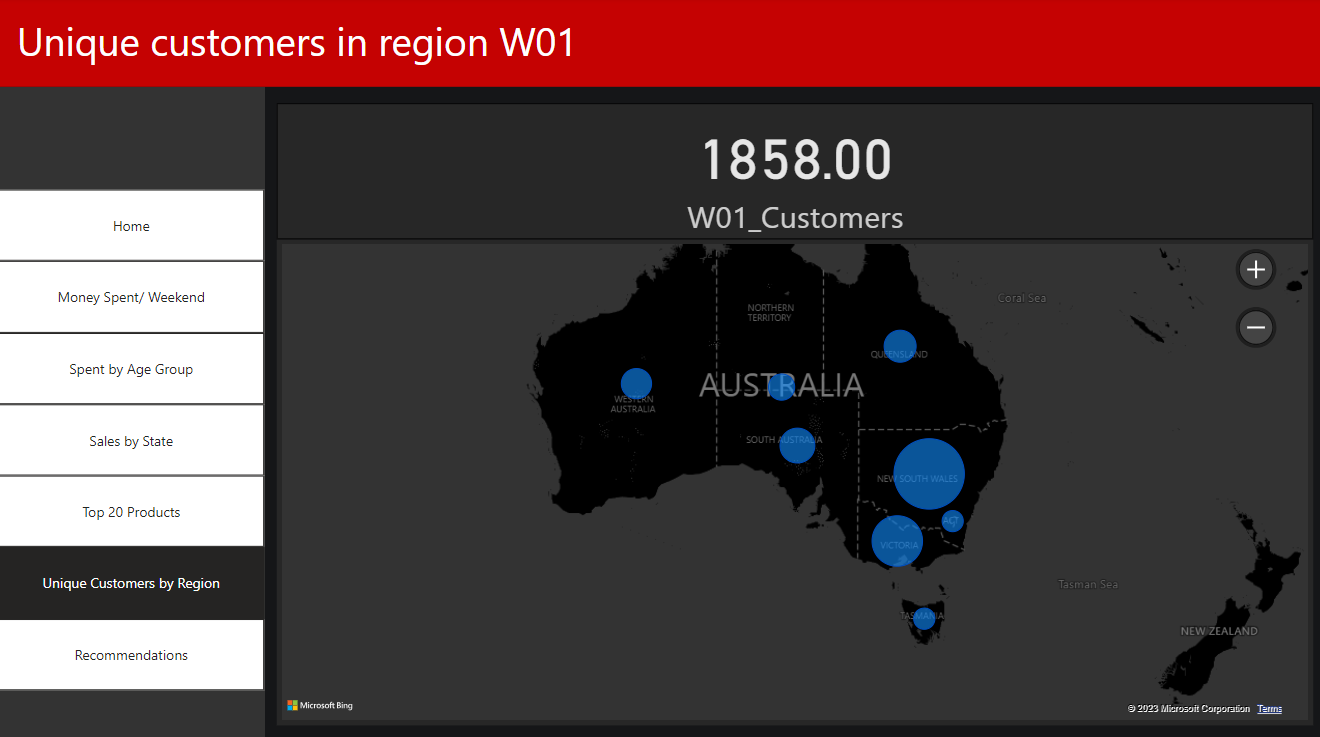

What the dashboard file says about the page in this screenshot:
{"tool":"powerbi","page":{"name":"Unique Customers by State","canvas":[1280,720],"ordinal":5},"visuals":[{"type":"shape","box":[0,0,1279.9,86.8],"z":0},{"type":"shape","box":[0,86.8,257.9,633.2],"z":1000},{"type":"map","fields":{"Size":["QUESTION_2.Unique_Customers"],"Category":["State_Lookup.Location"]},"box":[268.9,234,999.8,469.1],"z":2000},{"type":"card","fields":{"Values":["QUESTION_2.W01_Customers"]},"box":[268.9,102.5,999.8,131.5],"z":3000},{"type":"pageNavigator","box":[0,185.8,257.9,485.3],"z":4000},{"type":"textbox","box":[13.3,12.1,1245.8,74.8],"z":5000}]}

Visuals, with their boxes on the page's 1280x720 design canvas (x1, y1, x2, y2). These are canvas units, not pixel positions in the 1320x737 screenshot, which may show the page scaled, cropped or inside an application window:
shape: x1=0, y1=0, x2=1280, y2=87
shape: x1=0, y1=87, x2=258, y2=720
map - QUESTION_2.Unique_Customers x State_Lookup.Location: x1=269, y1=234, x2=1269, y2=703
card - QUESTION_2.W01_Customers: x1=269, y1=102, x2=1269, y2=234
pageNavigator: x1=0, y1=186, x2=258, y2=671
textbox: x1=13, y1=12, x2=1259, y2=87
